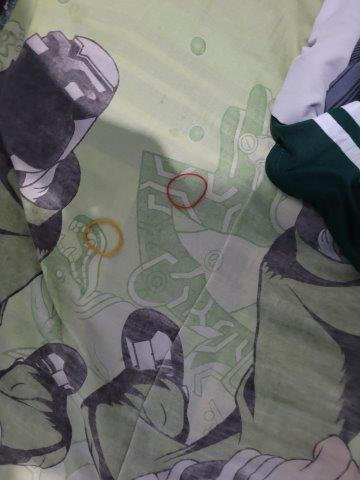karet: (164, 173, 209, 211), (83, 218, 125, 258)
